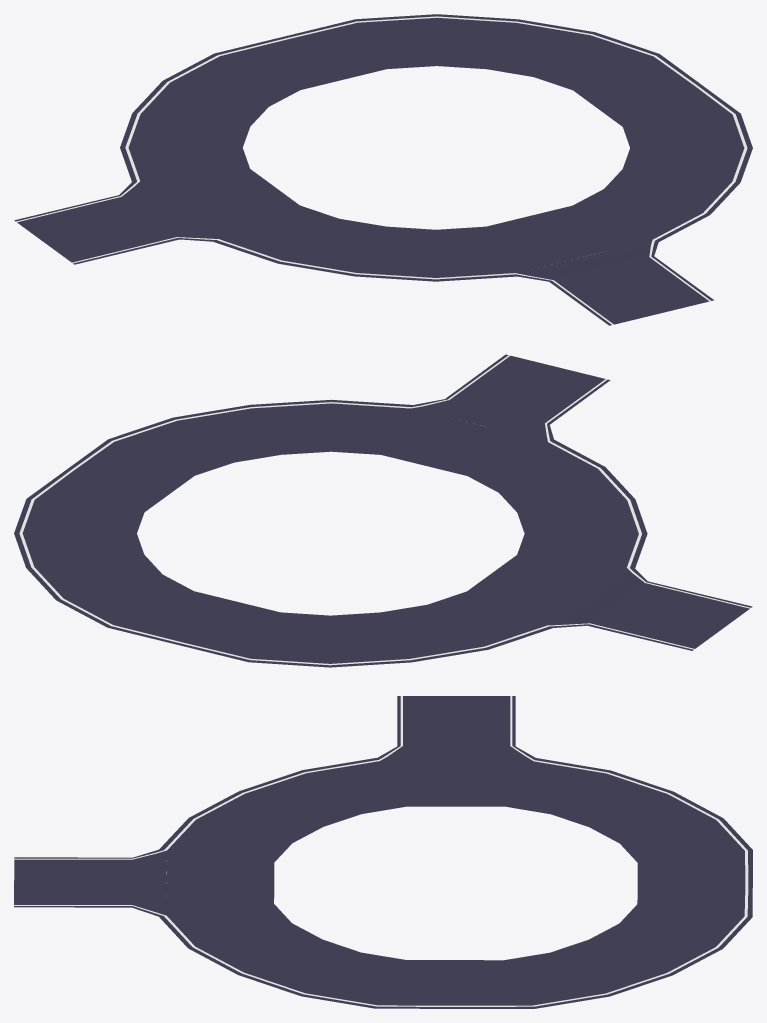
The picture shows the model from 3 angles, top to bottom: view 1: azimuth 30°, elevation 25°; view 2: azimuth 150°, elevation 25°; view 3: azimuth 270°, elevation 25°; orthographic projection. The views are drawn at different scales.
Visible parts, largest first — view 1: Circle_1.007; view 2: Circle_1.007; view 3: Circle_1.007.
Part boxes in pixels (x1,y1,x2,y2): Circle_1.007: (14,14,752,325); Circle_1.007: (14,354,752,667); Circle_1.007: (14,696,752,1008).
Size of the model in its own units: 124 by 0.1358 by 124.
Materials: 1 (1 with a texture image).
